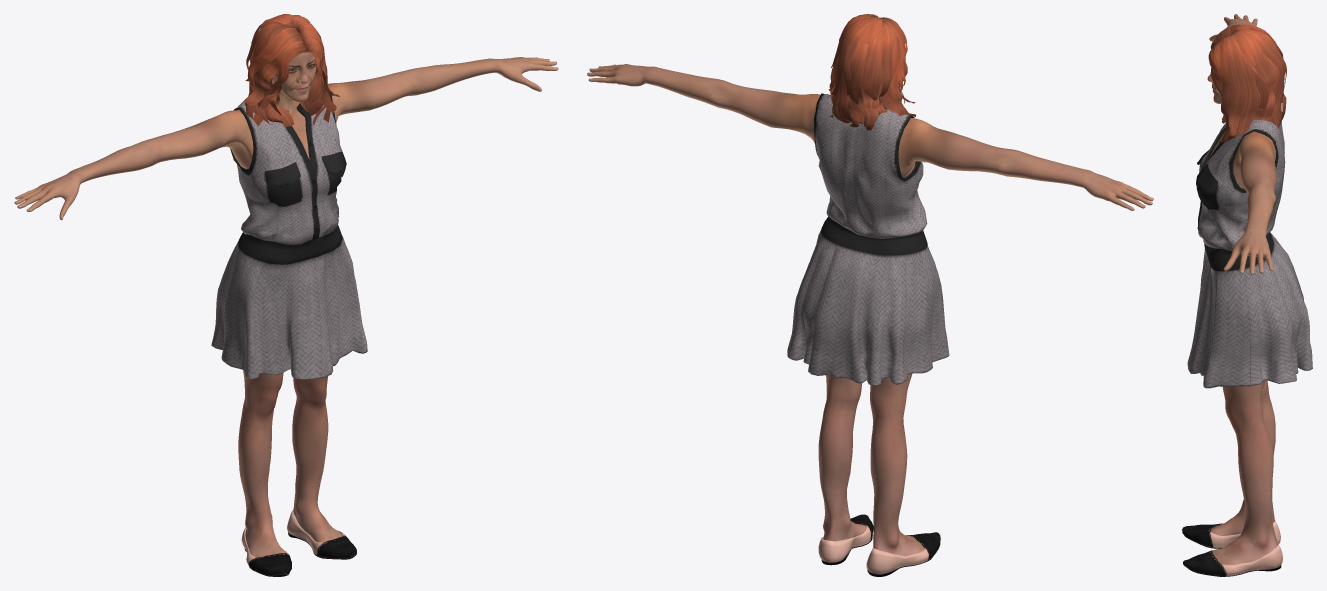
Rendered from Female-Generic-1.obj.
3 renders of one model, left to right at view 1: azimuth 30°, elevation 25°; view 2: azimuth 150°, elevation 25°; view 3: azimuth 270°, elevation 25°, orthographic. The views are drawn at different scales.
Parts seen in each view (by area): view 1: Tops, Body, Hair, Shoes; view 2: Tops, Body, Hair, Shoes; view 3: Tops, Body, Hair, Shoes.
Boxes of the visible parts, box(x1,y1,x2,y2) form: Tops: box(211, 91, 367, 379); Body: box(14, 52, 558, 557); Hair: box(244, 14, 340, 126); Shoes: box(241, 509, 356, 576); Tops: box(787, 93, 949, 385); Body: box(587, 64, 1153, 556); Hair: box(828, 14, 915, 130); Shoes: box(818, 514, 940, 576); Tops: box(1187, 119, 1312, 388); Body: box(1207, 14, 1277, 564); Hair: box(1208, 24, 1286, 142); Shoes: box(1182, 520, 1282, 576).
Bounding box in the file's own units: 186 × 173 × 38.9.
1 material, 1 textured.
